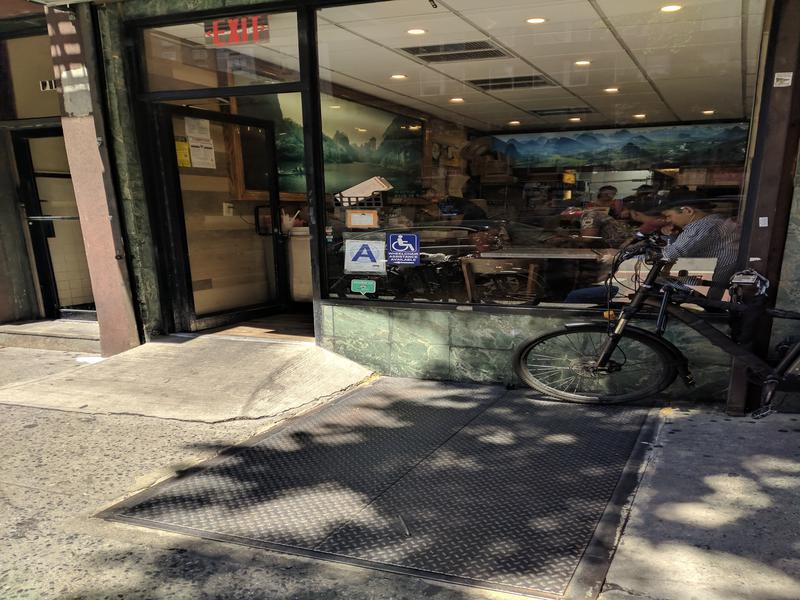door: (157, 97, 294, 327)
